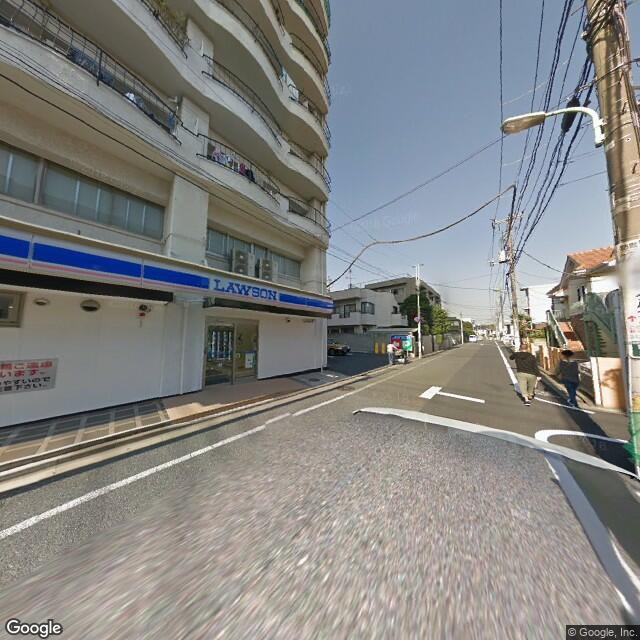lawson: (1, 221, 337, 318)
